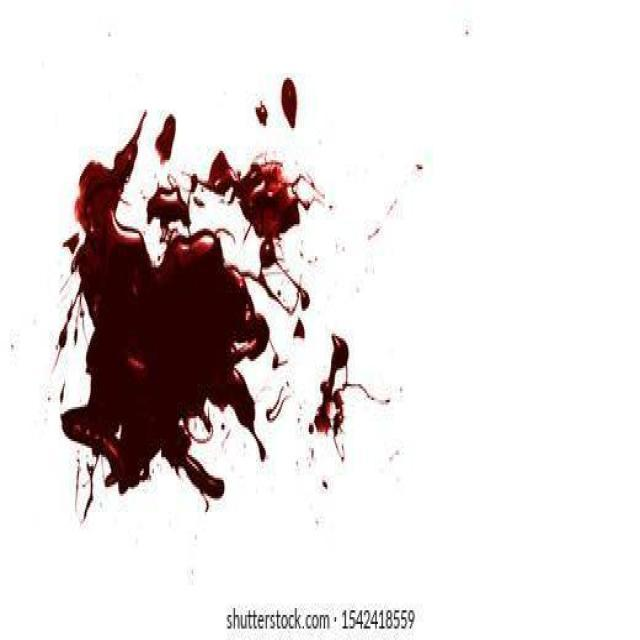flood: (37, 103, 366, 520)
